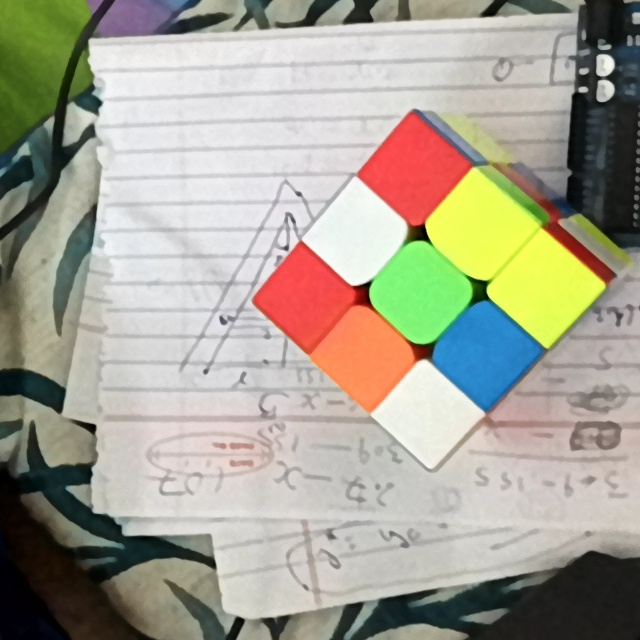tile: (449, 194, 509, 253), (516, 258, 574, 317), (395, 261, 450, 323), (384, 142, 441, 200), (460, 323, 515, 383), (339, 327, 393, 386), (398, 387, 457, 439), (327, 212, 384, 263), (280, 270, 331, 324)
